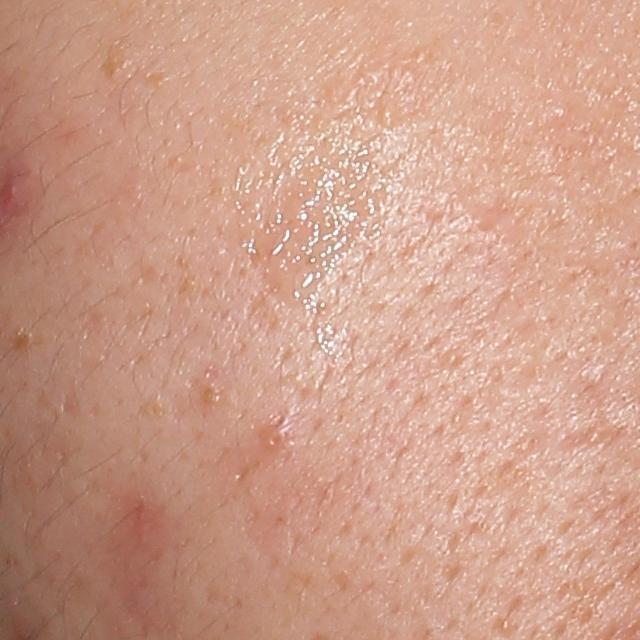comedo: (261, 423, 291, 449), (378, 103, 404, 130)
melasma: (99, 41, 134, 80)
